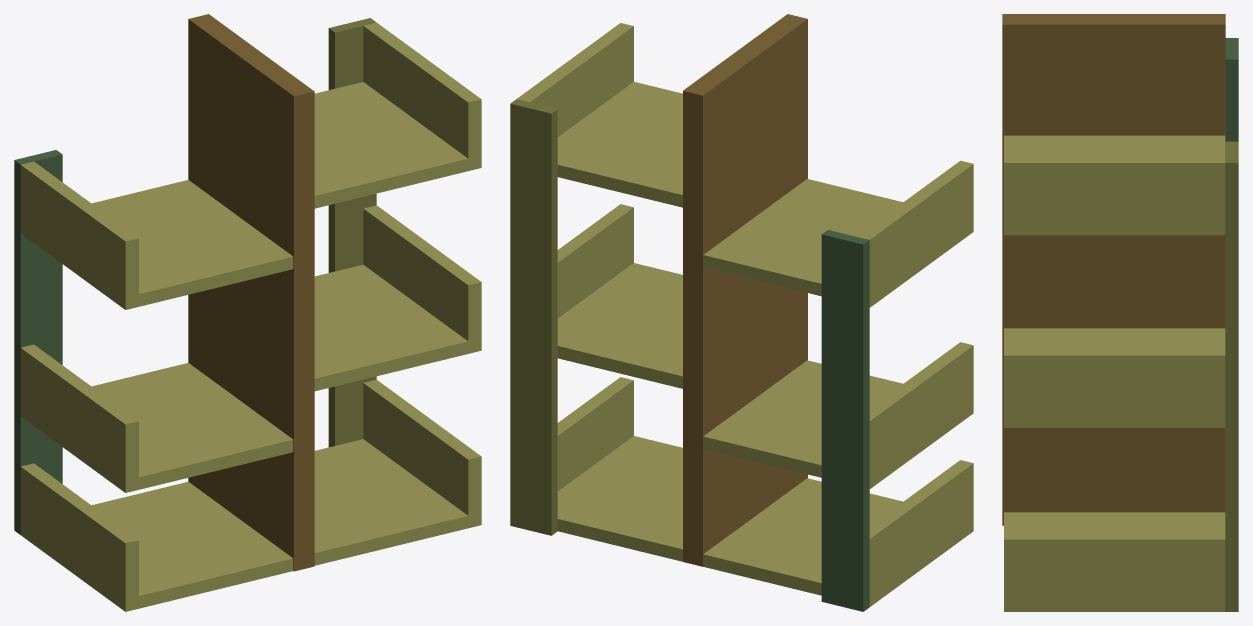
File: polka1.fbx
The picture shows the model from 3 angles, left to right: view 1: azimuth 30°, elevation 25°; view 2: azimuth 150°, elevation 25°; view 3: azimuth 270°, elevation 25°; orthographic projection. The views are drawn at different scales.
Visible parts, largest first — view 1: Cube.016, Cube.015, Cube.014, Cube.012; view 2: Cube.016, Cube.015, Cube.012, Cube.014; view 3: Cube.015, Cube.016, Cube.012, Cube.014.
Boxes of the visible parts, x1=… form: Cube.016: x1=20, y1=22, x2=481, y2=611; Cube.015: x1=188, y1=14, x2=314, y2=571; Cube.014: x1=14, y1=150, x2=62, y2=534; Cube.012: x1=328, y1=18, x2=376, y2=447; Cube.016: x1=517, y1=23, x2=973, y2=606; Cube.015: x1=683, y1=14, x2=807, y2=566; Cube.012: x1=510, y1=99, x2=557, y2=535; Cube.014: x1=821, y1=230, x2=869, y2=611; Cube.015: x1=1002, y1=14, x2=1225, y2=525; Cube.016: x1=1004, y1=135, x2=1225, y2=611; Cube.012: x1=1225, y1=141, x2=1238, y2=611; Cube.014: x1=1225, y1=38, x2=1238, y2=141.
Size of the model in its own units: 107 by 137 by 58.4.
